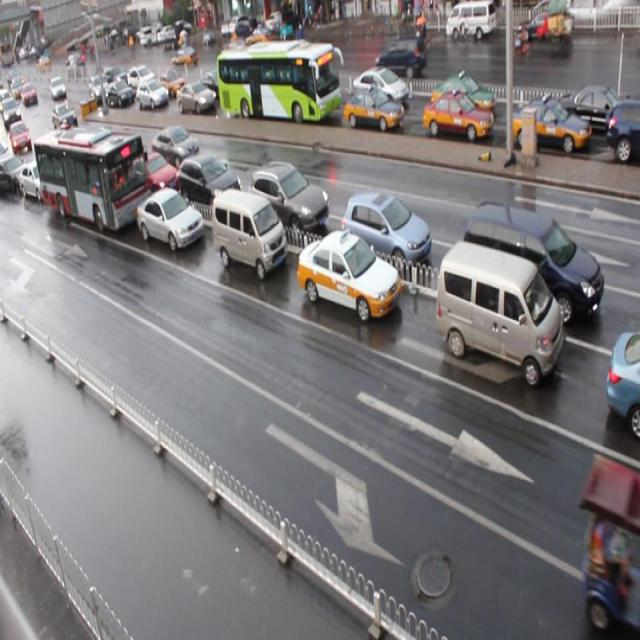car: (298, 228, 402, 322), (341, 192, 432, 276), (249, 161, 330, 234), (512, 98, 592, 156), (137, 186, 205, 251), (551, 85, 631, 138), (178, 152, 244, 212), (606, 328, 640, 434), (424, 92, 494, 140), (430, 74, 495, 120), (344, 84, 404, 133), (354, 67, 409, 108), (137, 146, 181, 195), (606, 97, 640, 159), (152, 126, 200, 164), (21, 157, 58, 202), (84, 132, 122, 171), (285, 67, 326, 102), (177, 80, 216, 113), (1, 152, 30, 194), (201, 72, 232, 104), (136, 81, 170, 109), (128, 64, 156, 92), (158, 72, 188, 98), (106, 79, 133, 105)
truck: (437, 240, 562, 388), (464, 198, 604, 328), (212, 188, 288, 278)
van: (35, 126, 154, 234), (216, 44, 340, 123)
